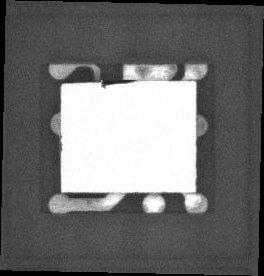DIE_BROKEN: (100, 77, 137, 89)
